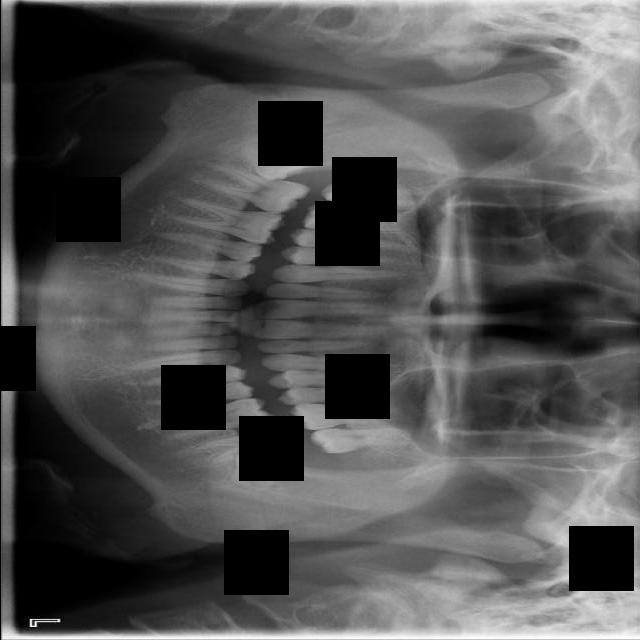52: (228, 443, 275, 459)
73: (53, 608, 59, 615)
BioHorizons Implant: (307, 427, 413, 454)
Biomet 3i Implant: (226, 443, 295, 502)
Blue Sky Bio Implant: (189, 422, 298, 467)
Caries: (316, 175, 437, 211)
Implant: (192, 160, 312, 222)
Keystone Dental Implant: (230, 126, 318, 198)
